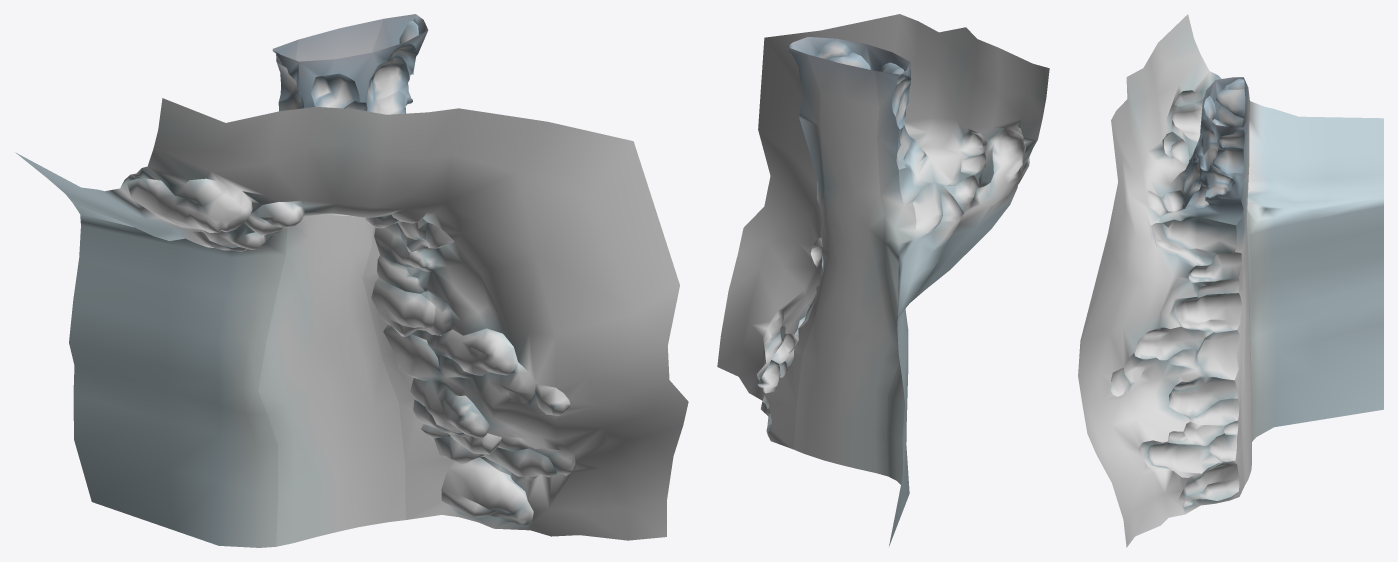
The model's file is Transition_IceCaveA.glb.
The picture shows the model from 3 angles, left to right: view 1: azimuth 30°, elevation 25°; view 2: azimuth 150°, elevation 25°; view 3: azimuth 270°, elevation 25°; orthographic projection. The views are drawn at different scales.
Parts seen in each view (by area): view 1: MeshNode_0, MeshNode_1; view 2: MeshNode_0, MeshNode_1; view 3: MeshNode_0, MeshNode_1.
Part boxes in pixels (x1,y1,x2,y2): MeshNode_0: (15,14,688,547); MeshNode_1: (258,19,405,546); MeshNode_0: (717,14,1049,546); MeshNode_1: (793,54,899,476); MeshNode_0: (1078,14,1383,547); MeshNode_1: (1241,89,1251,484).
Bounding box in the file's own units: 126 × 132 × 98.24.
